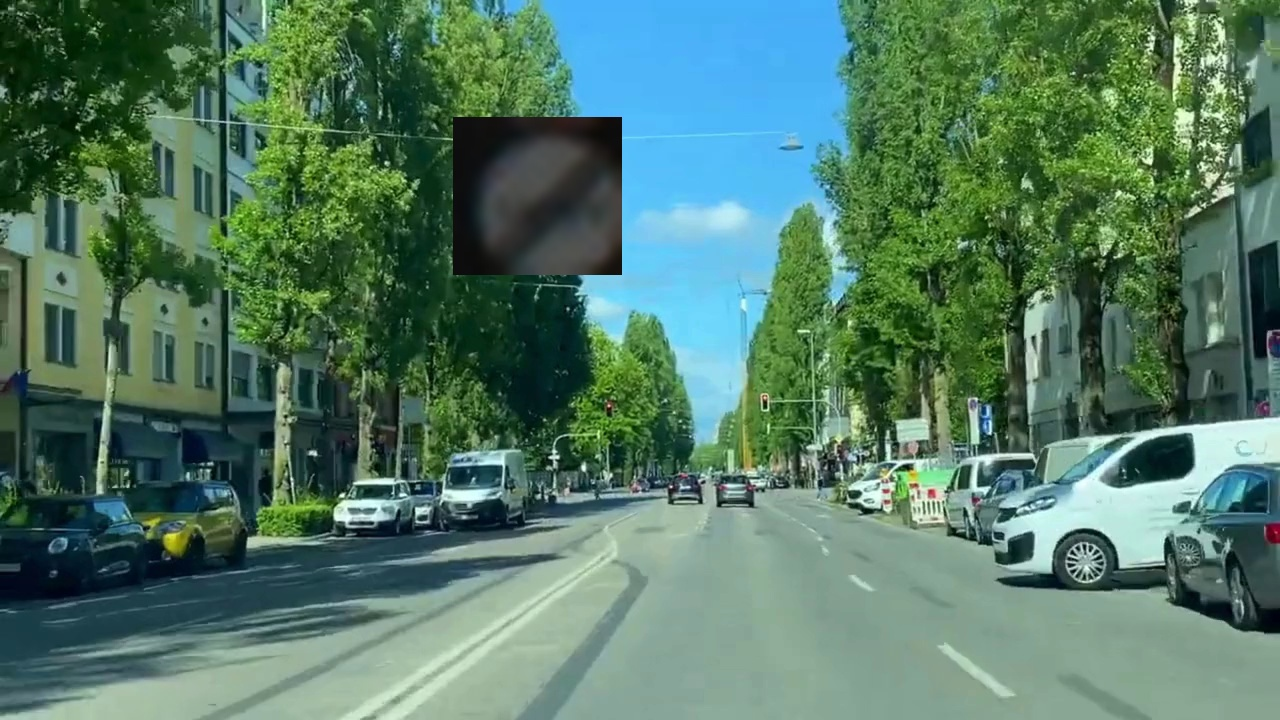End no pass: (453, 117, 622, 275)
